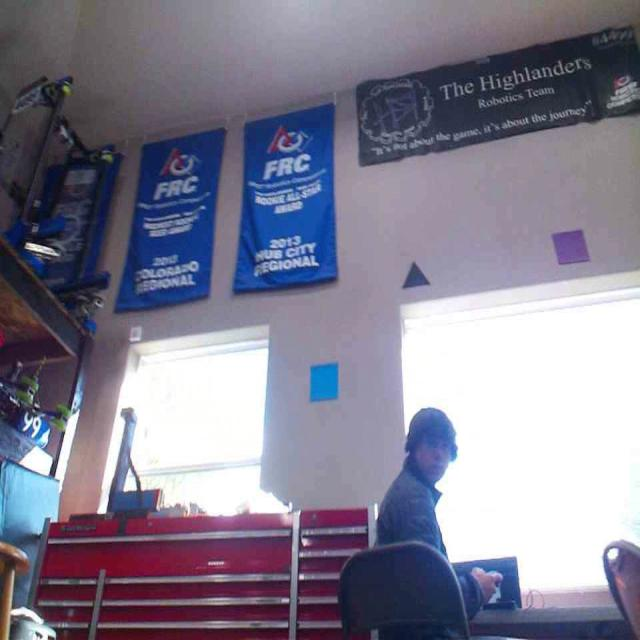square_blue: (308, 360, 340, 400)
square_purple: (549, 228, 590, 262)
triangle_black: (402, 259, 430, 288)
